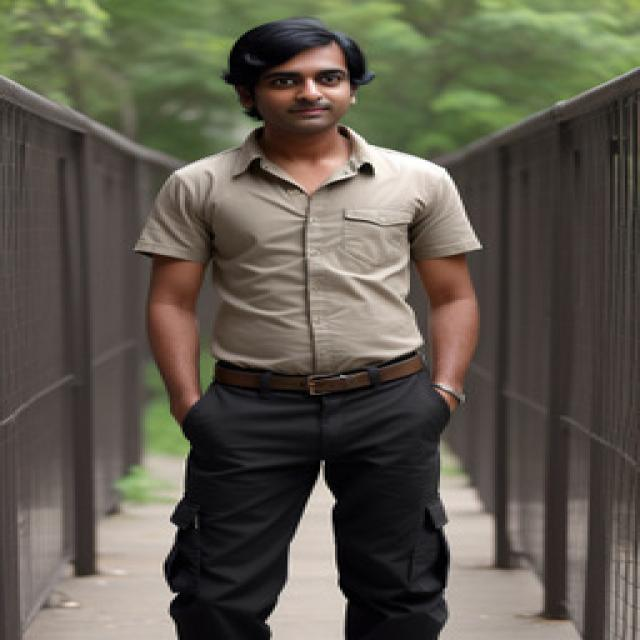Ai human 2: (130, 5, 500, 640)
